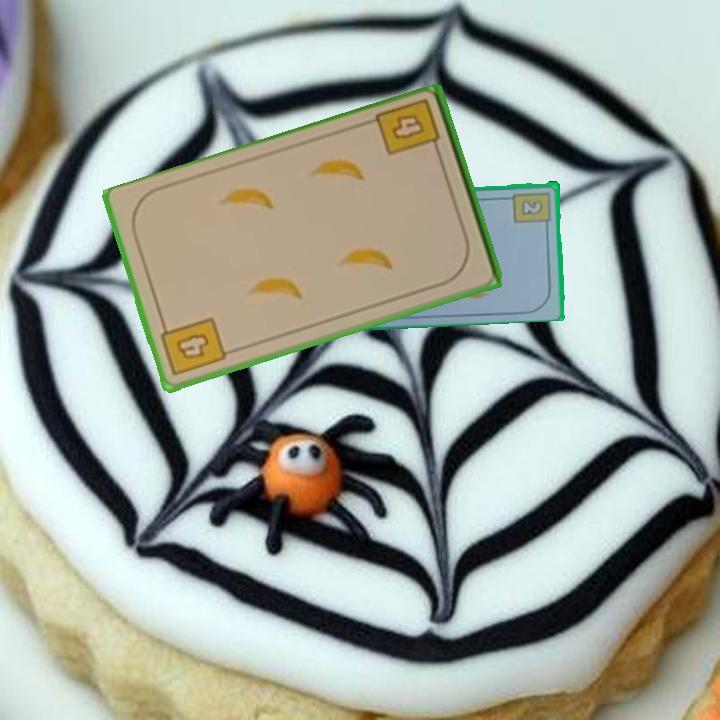2b: (511, 188, 554, 230)
4b: (157, 314, 229, 379), (373, 95, 443, 160)
